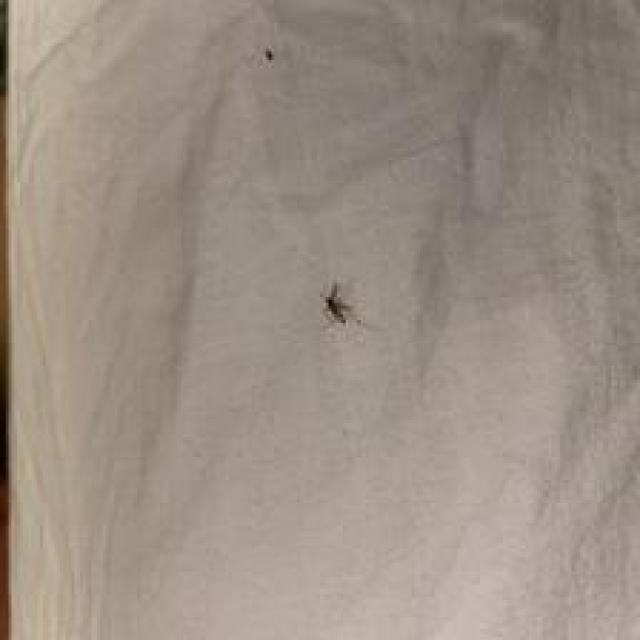Culex: (321, 282, 356, 327)
